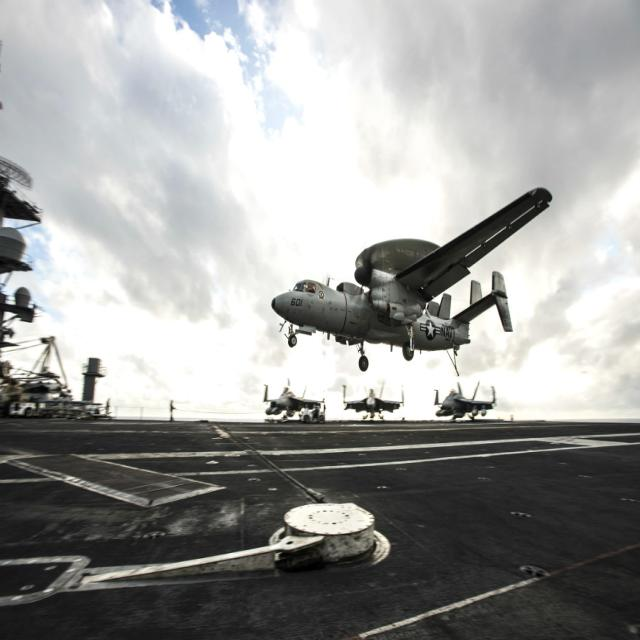MIL_Plane: (273, 190, 549, 370), (262, 378, 325, 422), (342, 379, 404, 421), (433, 380, 496, 421)
